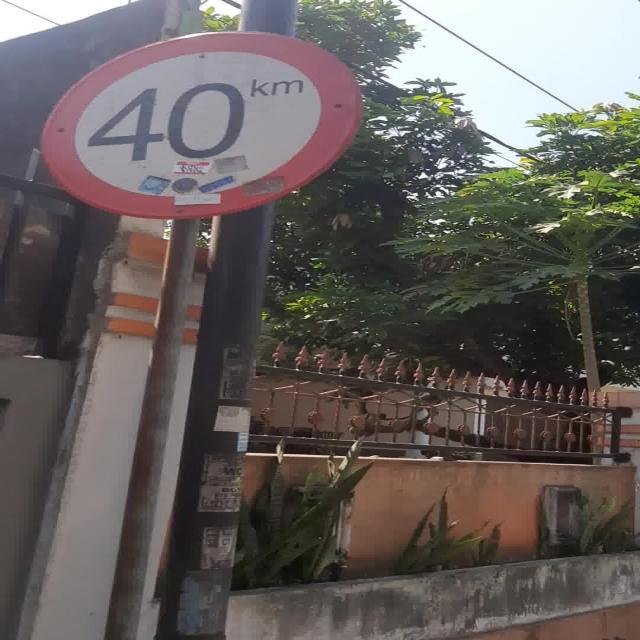Kecepatan Maks. 40 km: (39, 30, 362, 220)
